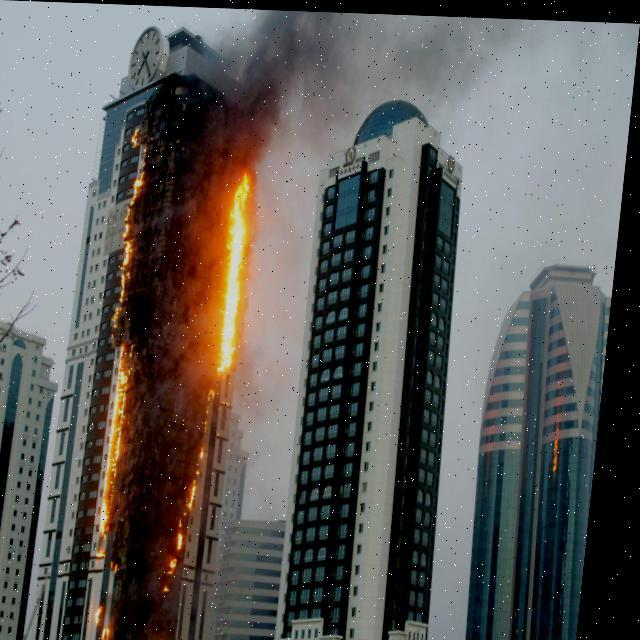Fire: (76, 102, 183, 594), (210, 156, 286, 394)
